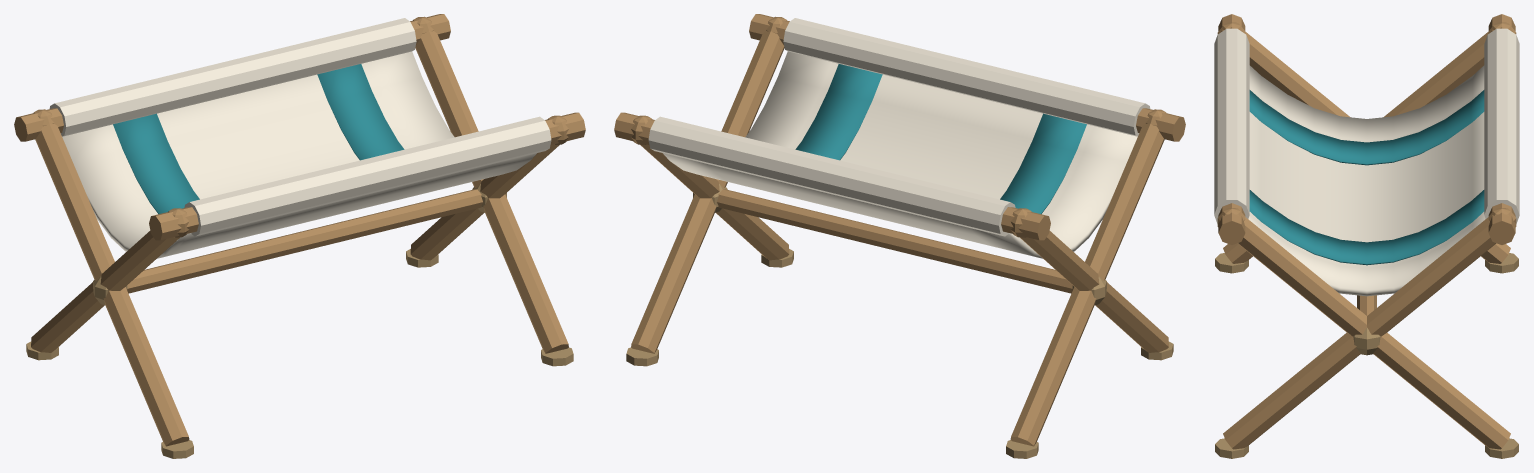
Rendered from cat_hammock.glb.
The picture shows the model from 3 angles, left to right: view 1: azimuth 30°, elevation 25°; view 2: azimuth 150°, elevation 25°; view 3: azimuth 270°, elevation 25°; orthographic projection.
Parts seen in each view (by area): view 1: cat_hammock; view 2: cat_hammock; view 3: cat_hammock.
Part boxes in pixels (bbox=[...]): cat_hammock: bbox=[14, 14, 585, 458]; cat_hammock: bbox=[614, 14, 1185, 458]; cat_hammock: bbox=[1214, 14, 1519, 458].
Bounding box in the file's own units: 0.725 × 0.4 × 0.4525.
